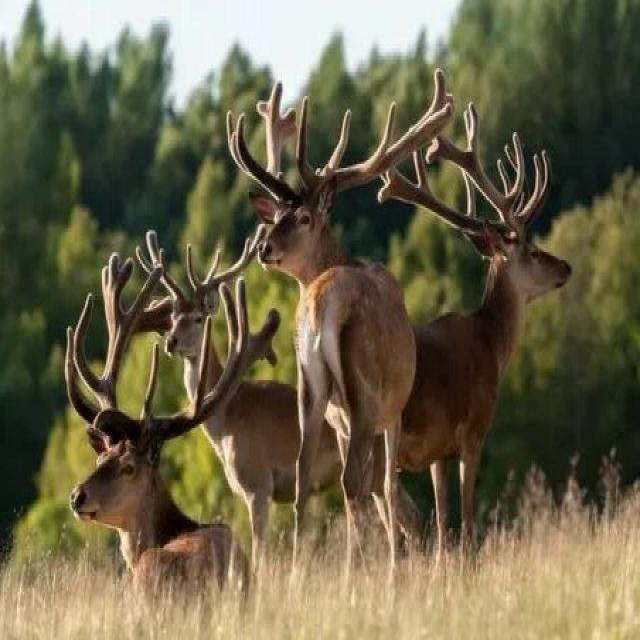deer: (210, 91, 424, 453), (309, 147, 529, 465), (142, 226, 335, 533), (60, 377, 256, 636)
